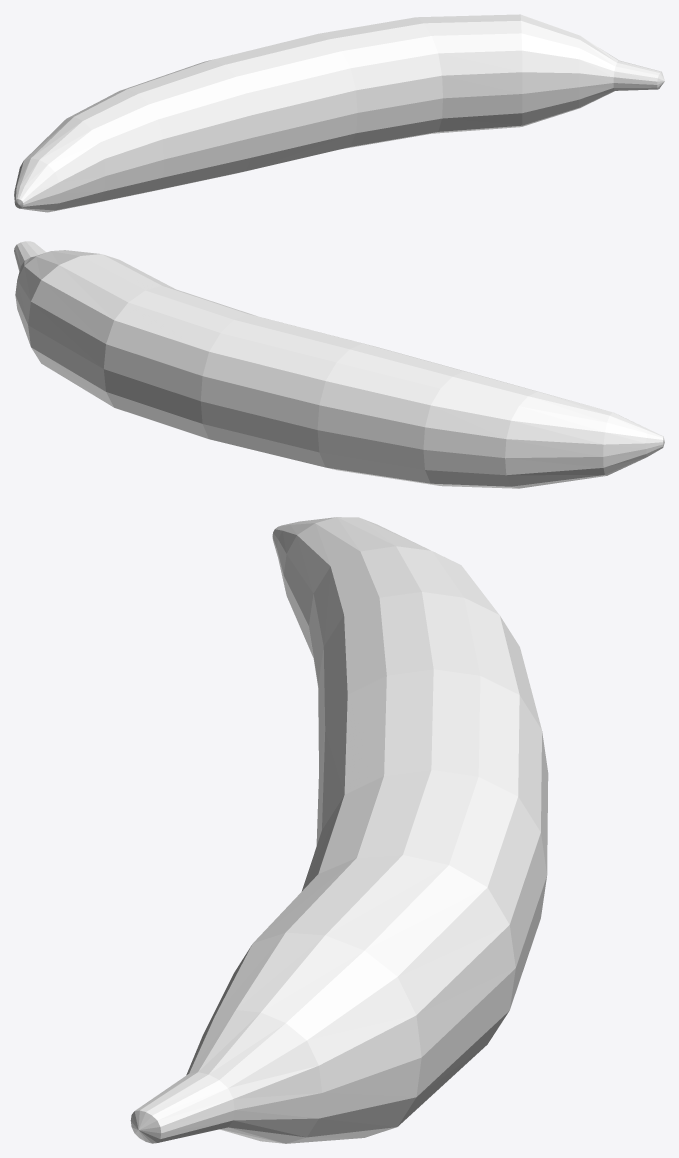
The model's file is sharktooth.dae.
3 views of the same model, one above another, from view 1: azimuth 30°, elevation 25°; view 2: azimuth 150°, elevation 25°; view 3: azimuth 270°, elevation 25° (orthographic). The views are drawn at different scales.
Visible parts, largest first — view 1: S_sharktooth; view 2: S_sharktooth; view 3: S_sharktooth.
Boxes of the visible parts, bbox=[...] form: S_sharktooth: bbox=[14, 14, 664, 212]; S_sharktooth: bbox=[14, 241, 664, 488]; S_sharktooth: bbox=[130, 517, 548, 1143].
Bounding box in the file's own units: 2.59 × 0.4212 × 0.7622.
Materials: 1 (1 with a texture image).
